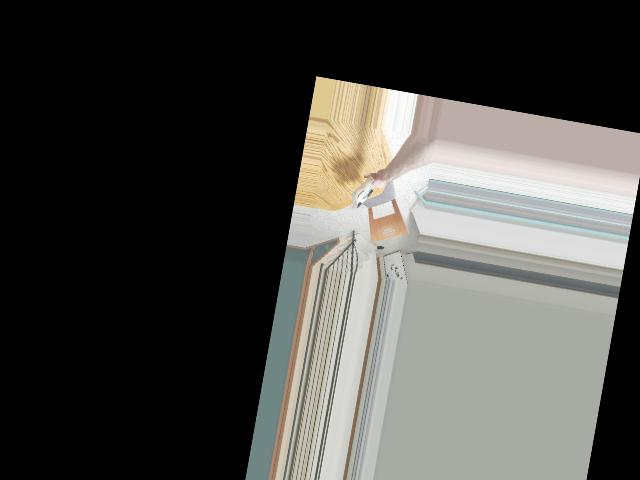cheese: (349, 172, 378, 211)
